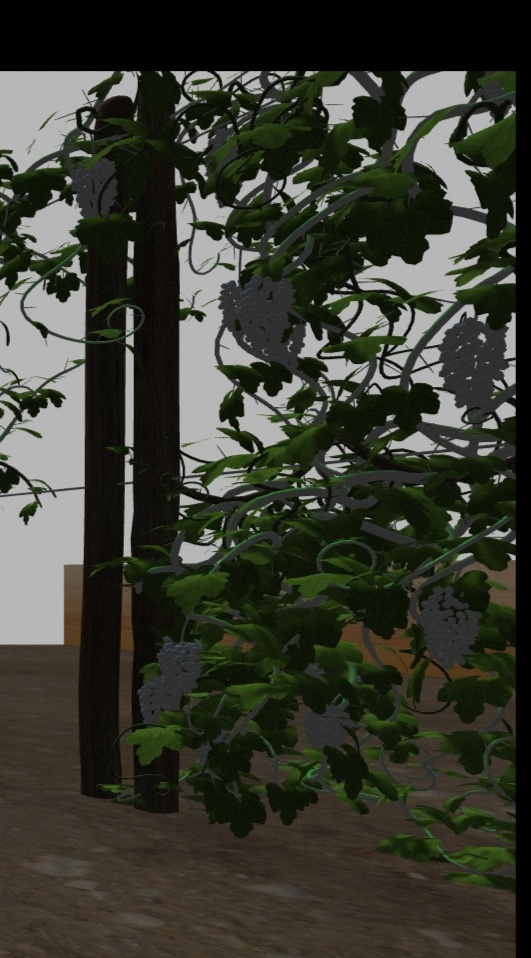grape: (437, 313, 506, 418), (420, 583, 482, 668), (234, 278, 290, 350), (71, 157, 119, 224), (294, 698, 352, 751), (156, 637, 203, 694), (132, 681, 172, 725), (217, 279, 243, 330)
